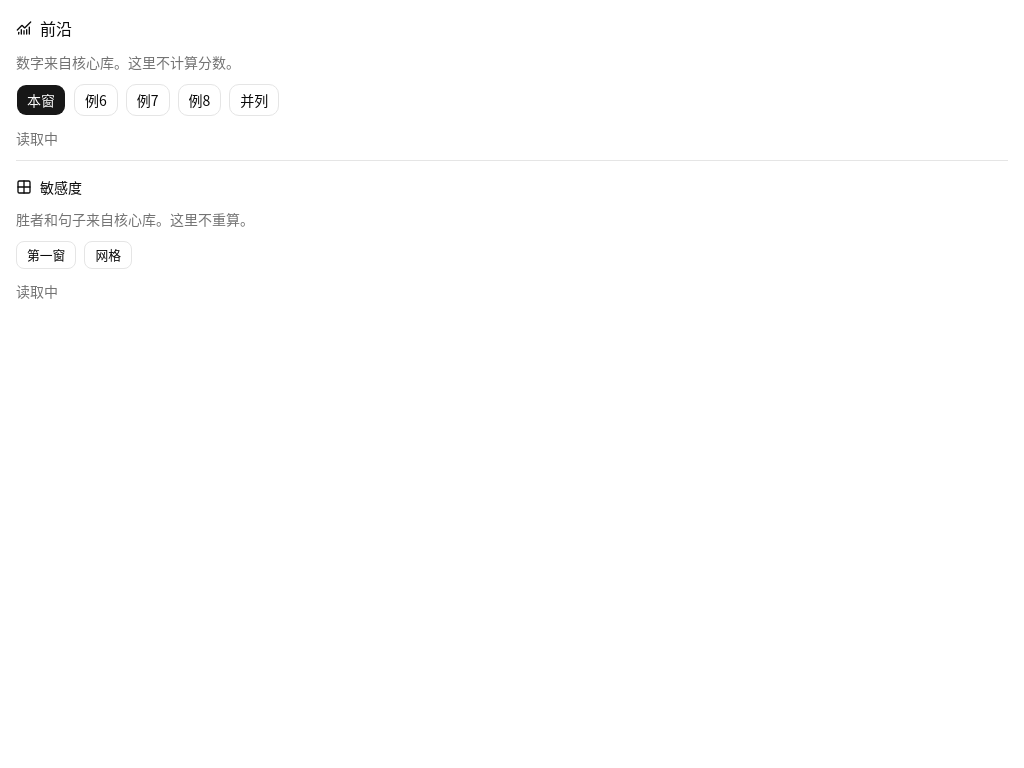
example 6 shows a different shell string and the fixture label
Click the button "例6" at (96, 100), box [74, 84, 118, 116]
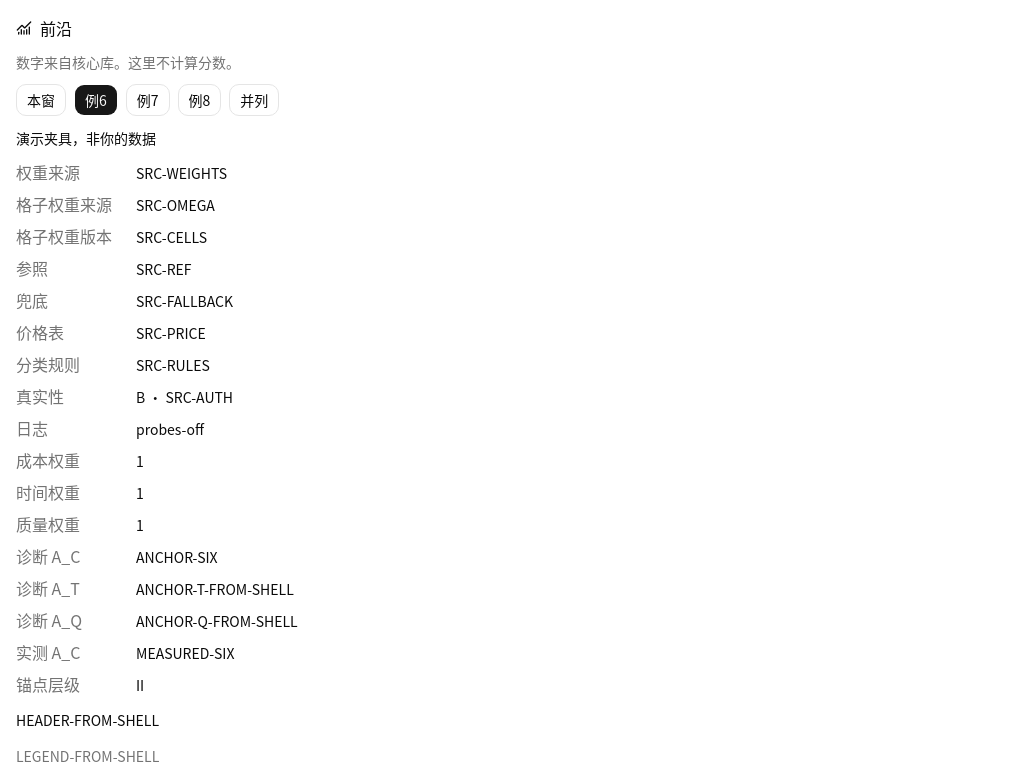
Expected: the text "ANCHOR-SIX" is shown, [136, 547, 218, 567]
Expected: the text "MEASURED-SIX" is shown, [136, 643, 234, 663]
Expected: the text "演示夹具，非你的数据" is shown, [16, 128, 156, 148]
